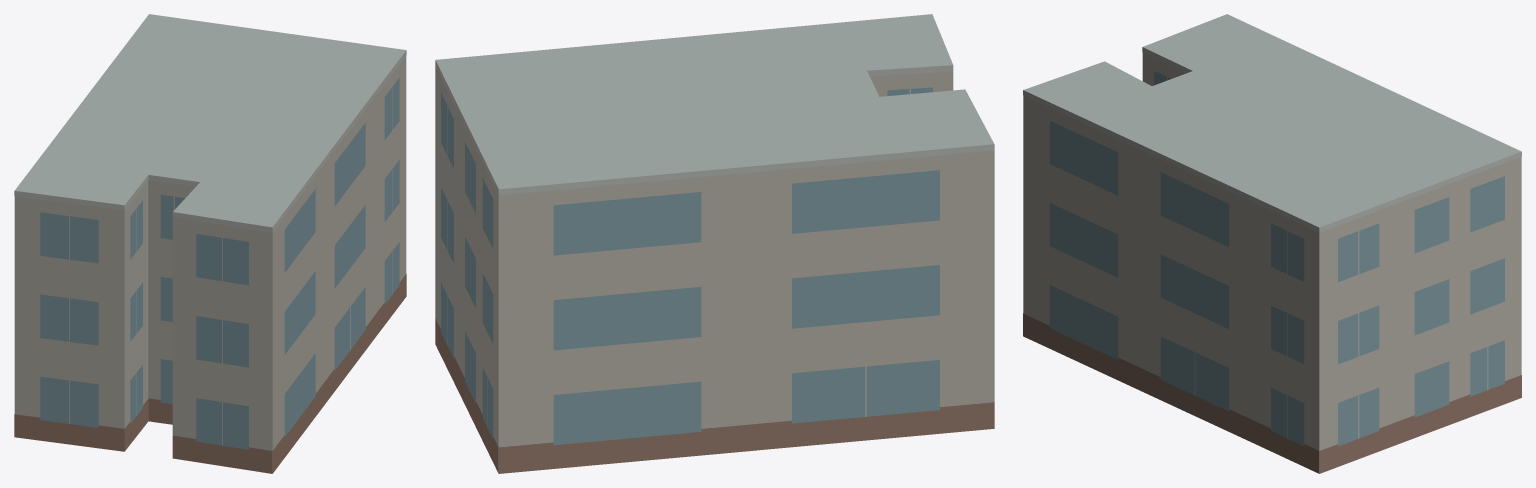
Rendered from survey-upis-32904811.glb.
3 renders of one model, left to right at view 1: azimuth 30°, elevation 25°; view 2: azimuth 150°, elevation 25°; view 3: azimuth 270°, elevation 25°, orthographic. The views are drawn at different scales.
Parts seen in each view (by area): view 1: survey-upis-32904811.tmp; view 2: survey-upis-32904811.tmp; view 3: survey-upis-32904811.tmp.
Part boxes in pixels (x1,y1,x2,y2): survey-upis-32904811.tmp: (14,14,406,473); survey-upis-32904811.tmp: (435,14,994,473); survey-upis-32904811.tmp: (1023,14,1521,473).
Size of the model in its own units: 21.21 by 11.4 by 20.93.
